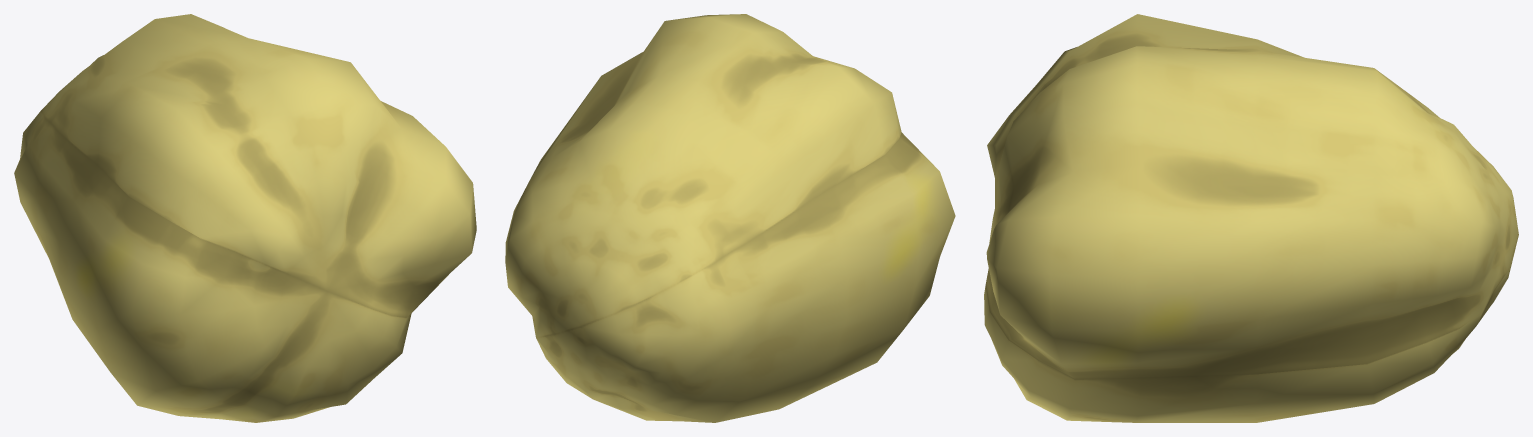
File: JackfruitB.glb
3 views of the same model, side by side, from view 1: azimuth 30°, elevation 25°; view 2: azimuth 150°, elevation 25°; view 3: azimuth 270°, elevation 25° (orthographic). The views are drawn at different scales.
Parts seen in each view (by area): view 1: JackfruitB_Jackfruit_0; view 2: JackfruitB_Jackfruit_0; view 3: JackfruitB_Jackfruit_0.
Boxes of the visible parts, left/top/right/bottom form: JackfruitB_Jackfruit_0: left=14, top=14, right=476, bottom=422; JackfruitB_Jackfruit_0: left=505, top=14, right=955, bottom=422; JackfruitB_Jackfruit_0: left=984, top=14, right=1518, bottom=422.
Bounding box in the file's own units: 0.8122 × 0.77 × 0.9798.
Materials: 1 (1 with a texture image).
